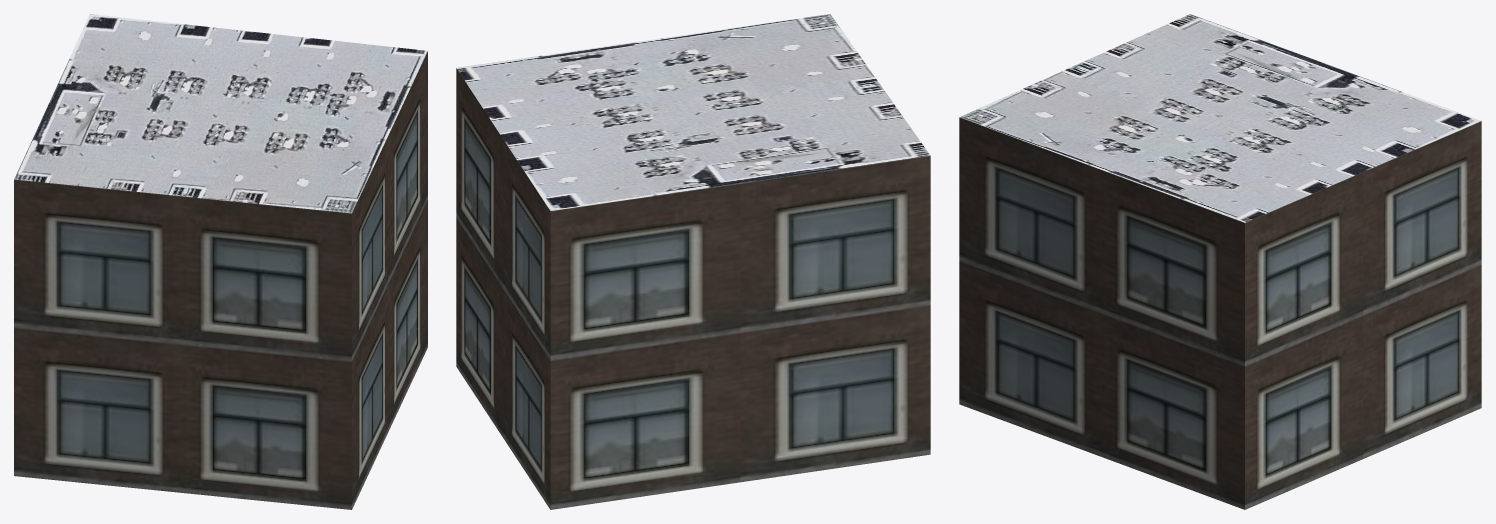
Rendered from ResTex__2528.fbx.
3 renders of one model, left to right at view 1: azimuth 30°, elevation 25°; view 2: azimuth 150°, elevation 25°; view 3: azimuth 270°, elevation 25°, orthographic. The views are drawn at different scales.
Visible parts, largest first — view 1: CityEngineMaterial_16_m, CityEngineMaterial_15_m; view 2: CityEngineMaterial_16_m, CityEngineMaterial_15_m; view 3: CityEngineMaterial_16_m, CityEngineMaterial_15_m.
Part boxes in pixels (left/top/right/bottom): CityEngineMaterial_16_m: left=14, top=51, right=427, bottom=509; CityEngineMaterial_15_m: left=14, top=14, right=427, bottom=213; CityEngineMaterial_16_m: left=456, top=68, right=930, bottom=509; CityEngineMaterial_15_m: left=456, top=14, right=930, bottom=210; CityEngineMaterial_16_m: left=959, top=117, right=1481, bottom=509; CityEngineMaterial_15_m: left=959, top=14, right=1480, bottom=222.
Size of the model in its own units: 9.37 by 6 by 9.9.
2 materials, 2 textured.
